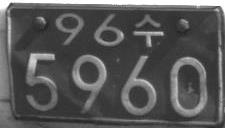0: (169, 55, 208, 118)
5: (23, 53, 59, 112)
6: (119, 55, 158, 116), (93, 14, 125, 47)
9: (70, 52, 107, 114), (54, 11, 84, 46)
수: (133, 13, 164, 48)
